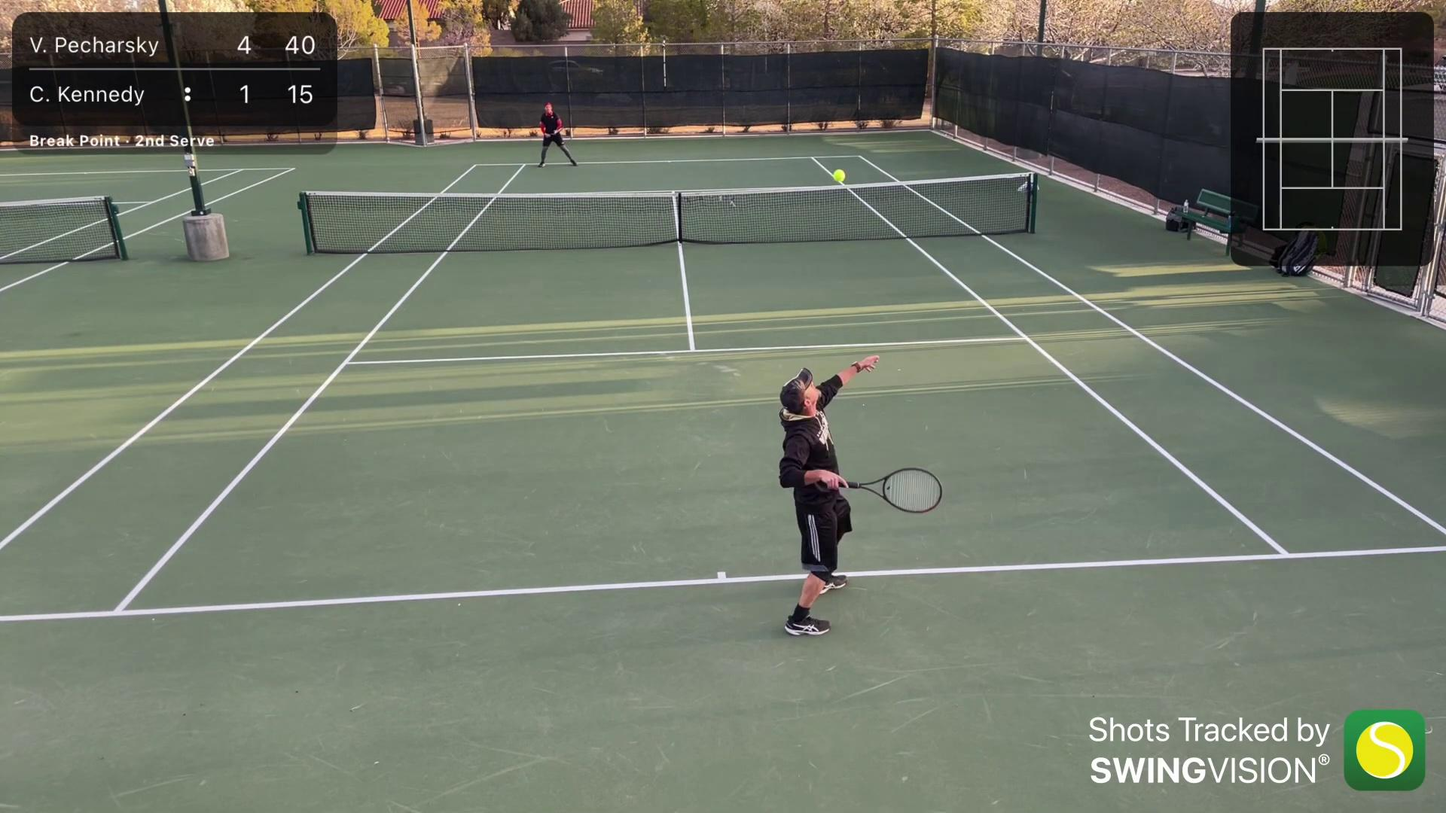ball: (831, 168, 849, 183)
